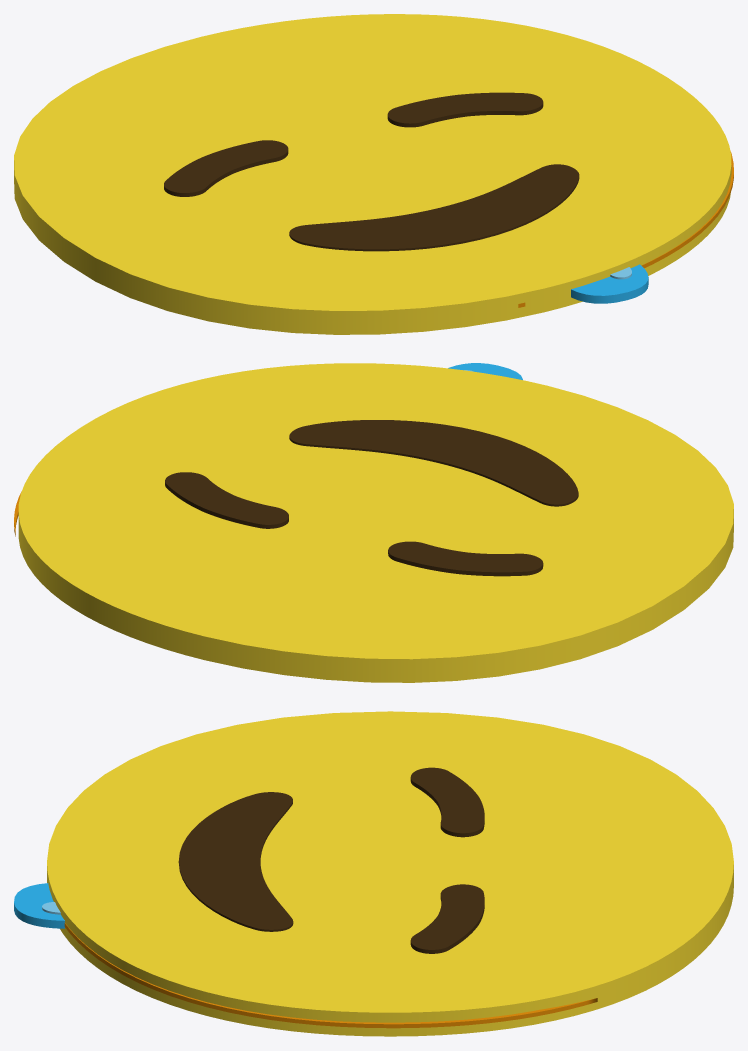
The model's file is emoji_u1f924.glb.
3 views of the same model, one above another, from view 1: azimuth 30°, elevation 25°; view 2: azimuth 150°, elevation 25°; view 3: azimuth 270°, elevation 25° (orthographic).
Parts seen in each view (by area): view 1: emoji_u1f924; view 2: emoji_u1f924; view 3: emoji_u1f924.
Part boxes in pixels (x1,y1,x2,y2): emoji_u1f924: (14, 14, 733, 334); emoji_u1f924: (14, 363, 733, 682); emoji_u1f924: (14, 711, 733, 1036).
Bounding box in the file's own units: 0.0327 × 0.0016 × 0.0329.
